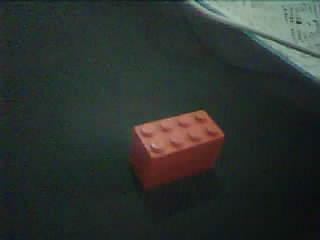lego: (128, 108, 225, 189)
